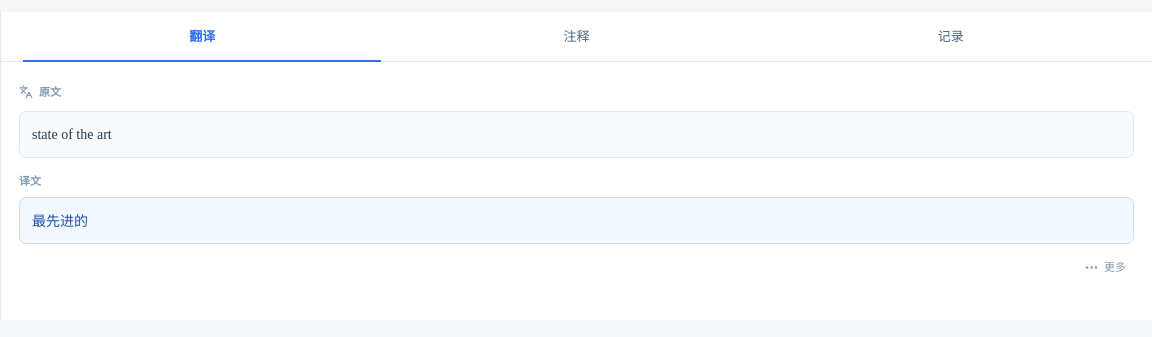
Test case: InspectorPanel › keeps notes collapsed as linked titles until clicked
Click the tab "注释" at (576, 36), box x1=389 y1=12 x2=764 y2=61
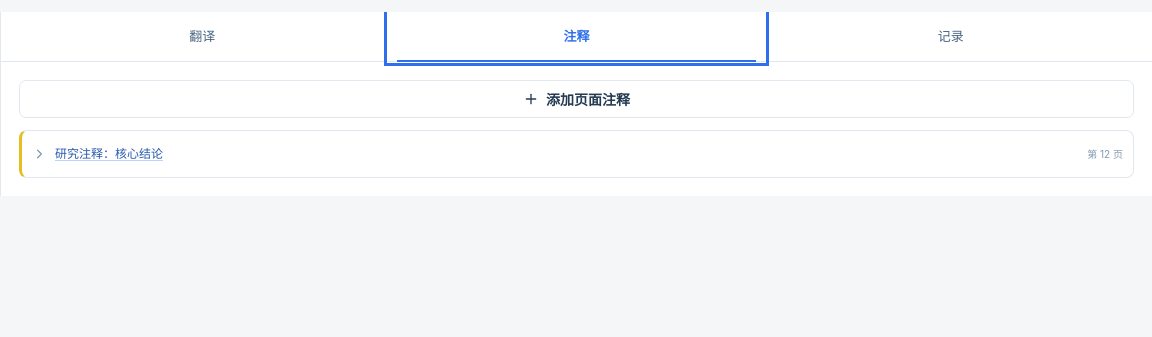
Check: the text "这是完整的注释正文。" is not shown
Click the button "研究注释：核心结论 第 12 页" at (109, 154), box x1=22 y1=131 x2=1133 y2=177
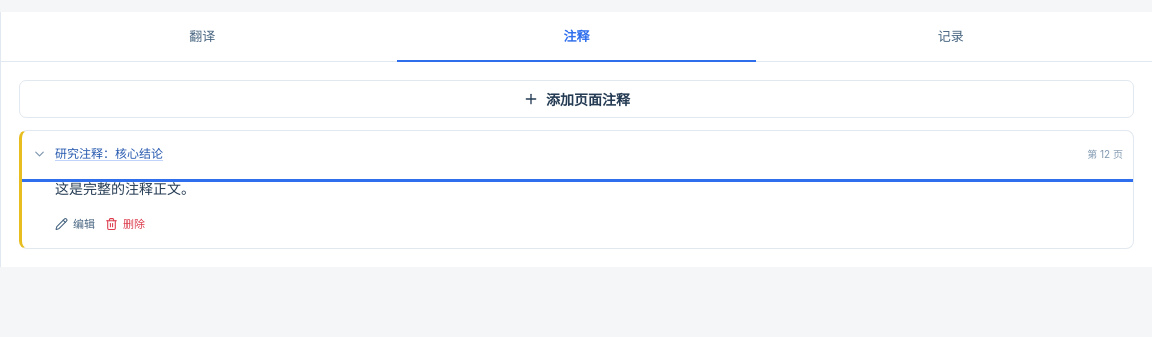
Check: the text "这是完整的注释正文。" is shown, box x1=55 y1=180 x2=195 y2=197
